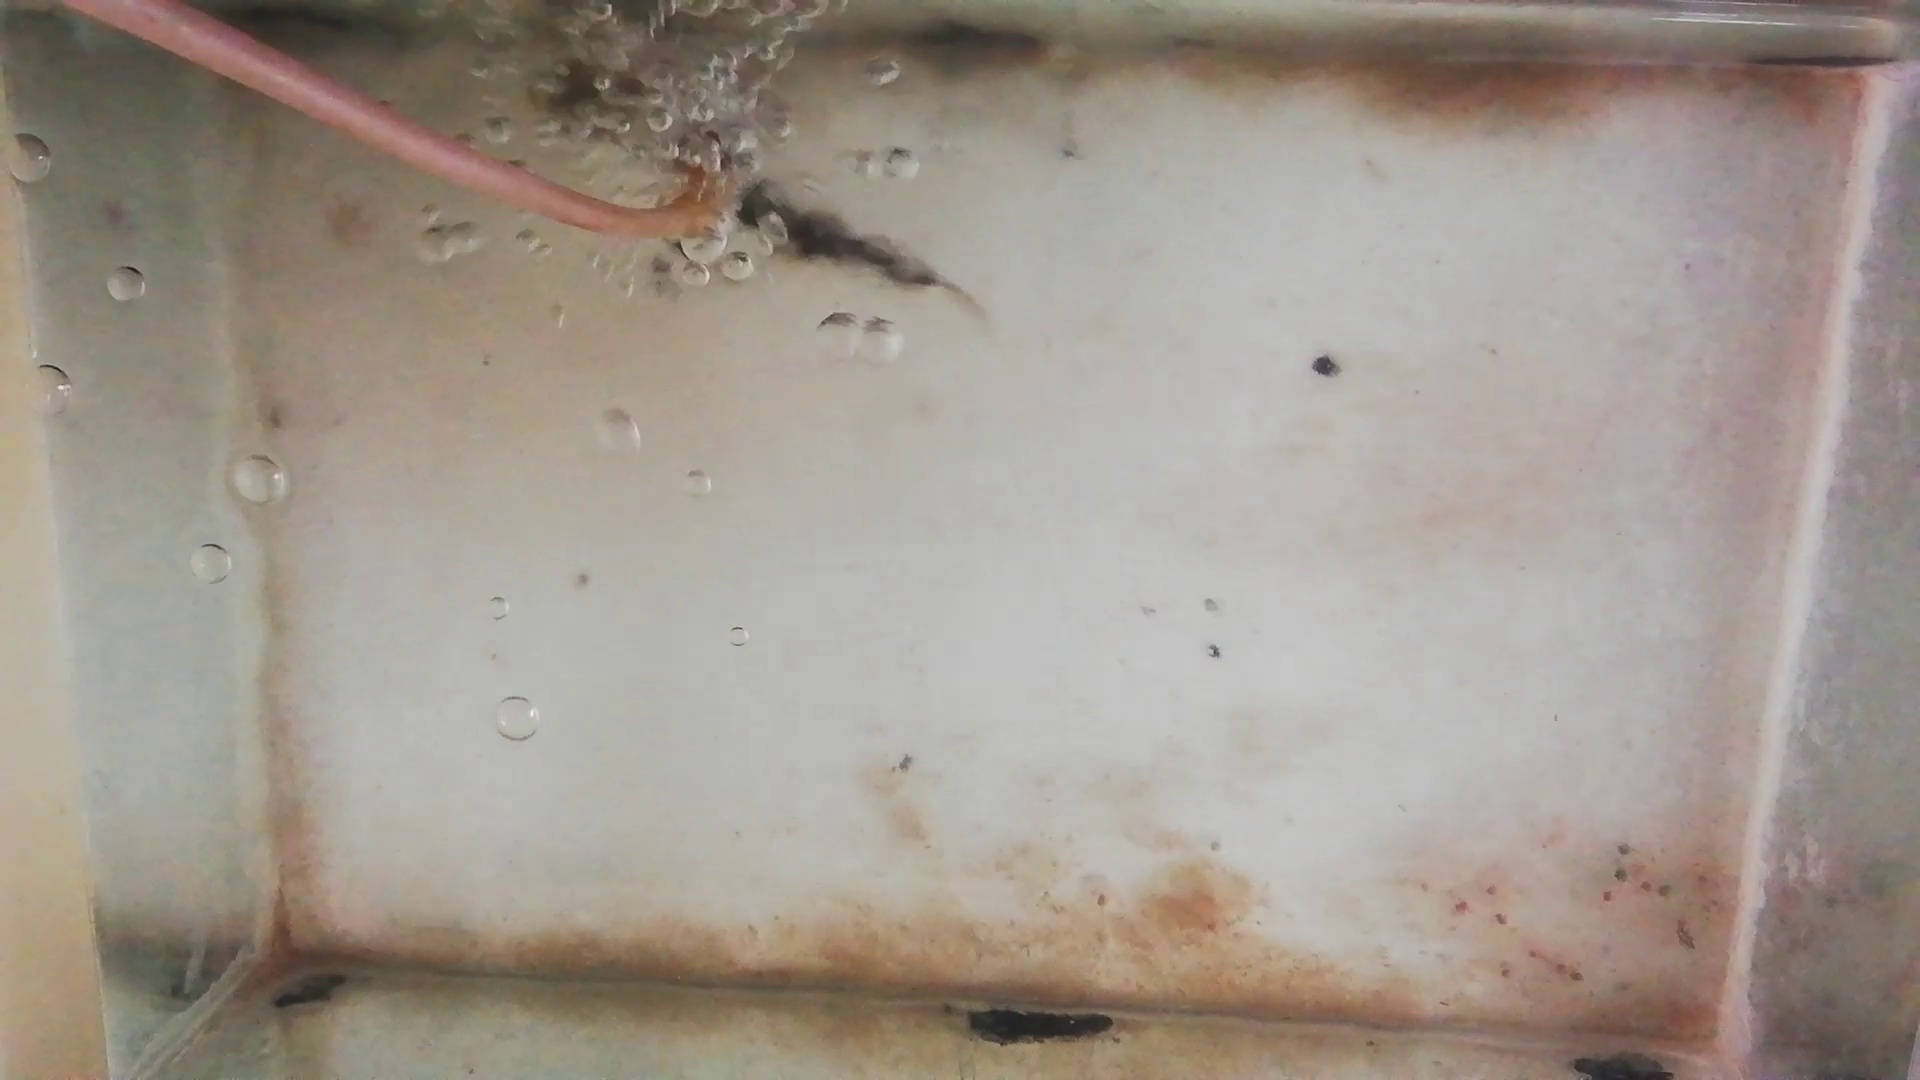fish: (735, 183, 949, 294), (516, 59, 695, 127)
